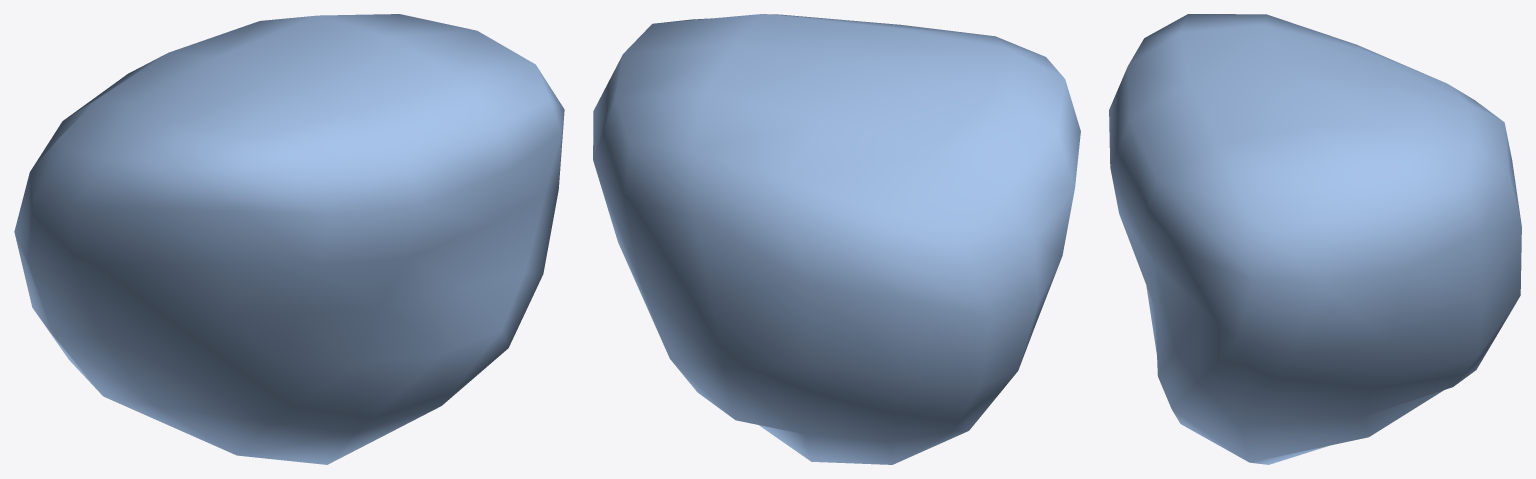
The model's file is Rock6.fbx.
3 views of the same model, side by side, from view 1: azimuth 30°, elevation 25°; view 2: azimuth 150°, elevation 25°; view 3: azimuth 270°, elevation 25° (orthographic). The views are drawn at different scales.
Parts seen in each view (by area): view 1: Rock.006; view 2: Rock.006; view 3: Rock.006.
Part boxes in pixels (x1,y1,x2,y2): Rock.006: (14,14,564,464); Rock.006: (593,14,1080,464); Rock.006: (1109,14,1521,464).
Bounding box in the file's own units: 129 × 100 × 99.6.
